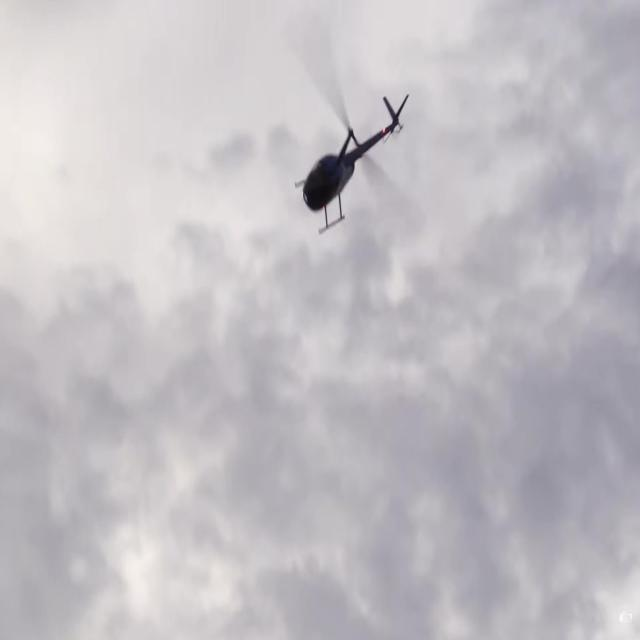CIV_HELO: (295, 92, 411, 235)
